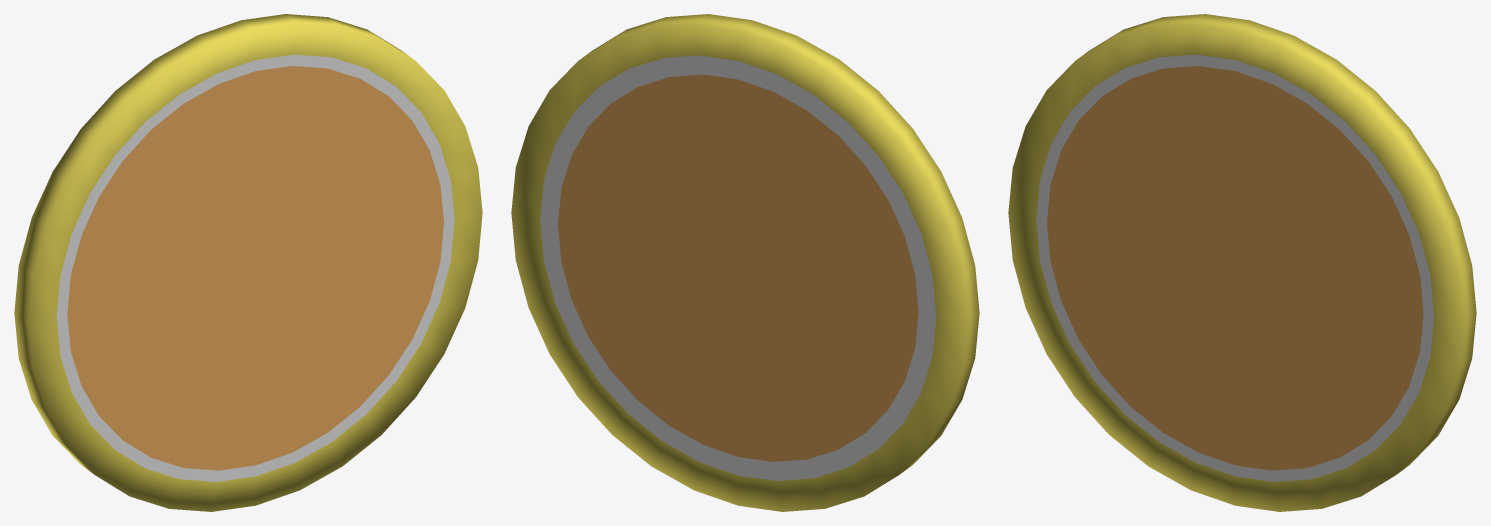
File: titlerings_A_Kincho.fbx
3 views of the same model, side by side, from view 1: azimuth 30°, elevation 25°; view 2: azimuth 150°, elevation 25°; view 3: azimuth 330°, elevation 25° (orthographic).
Visible parts, largest first — view 1: A_kincho; view 2: A_kincho; view 3: A_kincho.
Part boxes in pixels (box(x1,y1,x2,y2)): A_kincho: box(14, 14, 482, 511); A_kincho: box(511, 14, 979, 511); A_kincho: box(1008, 14, 1476, 511).
Bounding box in the file's own units: 219 × 219 × 12.06.
